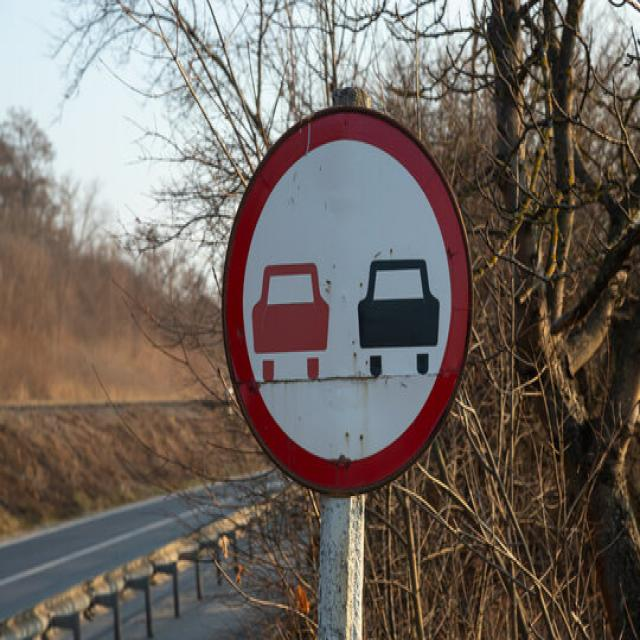no overtaking: (217, 99, 479, 505)
